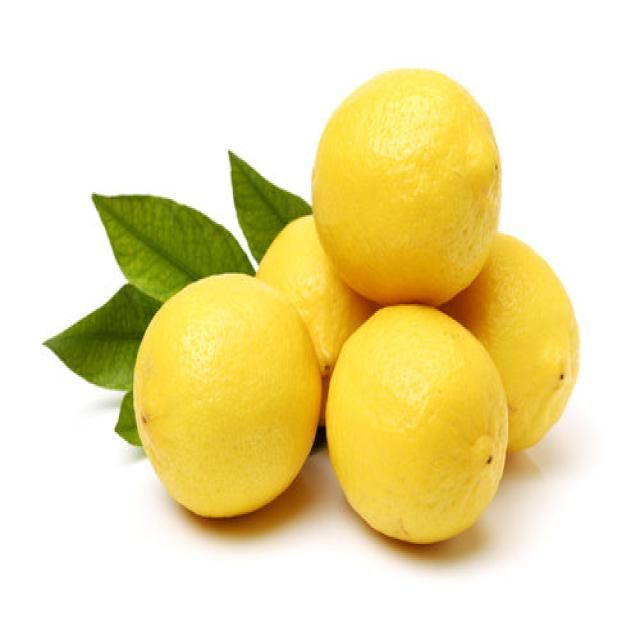Lemon: (132, 270, 321, 519), (310, 66, 502, 306), (324, 302, 508, 544), (443, 231, 580, 453), (255, 213, 375, 443)
